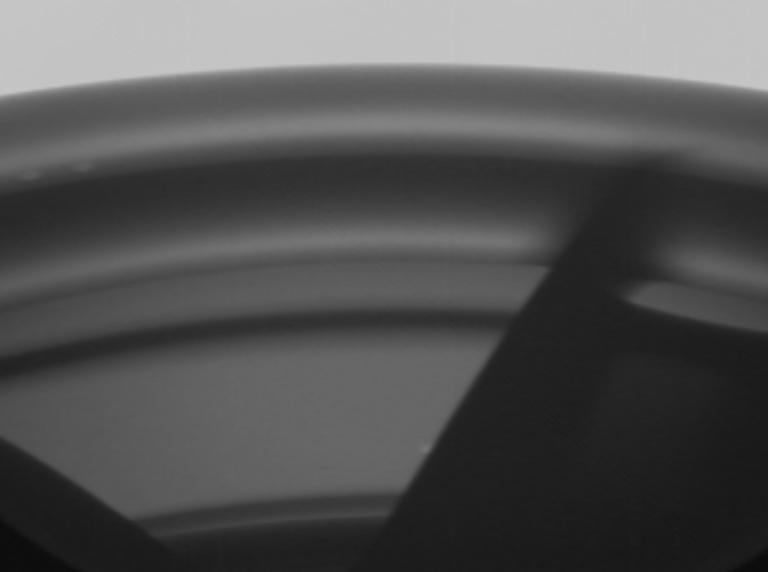defect: (63, 150, 105, 185)
